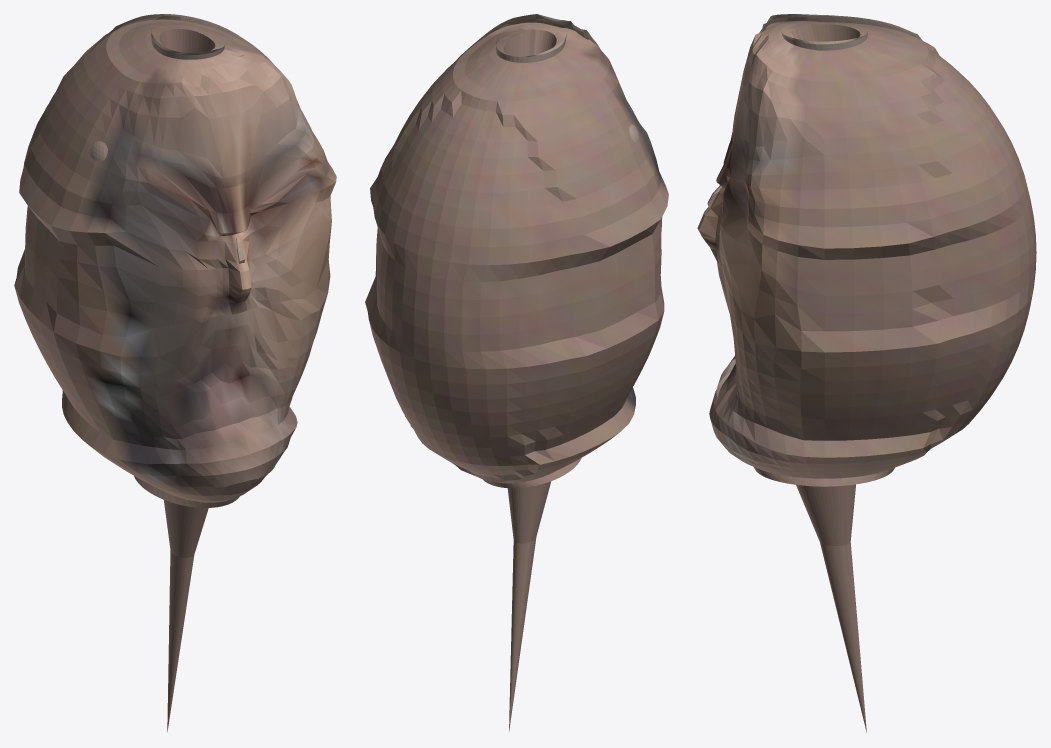
Rendered from avatar_v2_a0212793.glb.
The picture shows the model from 3 angles, left to right: view 1: azimuth 30°, elevation 25°; view 2: azimuth 150°, elevation 25°; view 3: azimuth 270°, elevation 25°; orthographic projection. The views are drawn at different scales.
Visible parts, largest first — view 1: world; view 2: world; view 3: world.
Part boxes in pixels (<box>): world: <box>14,14,336,732</box>; world: <box>365,14,668,731</box>; world: <box>697,14,1036,732</box>.
Bounding box in the file's own units: 0.0851 × 0.2135 × 0.0926.
